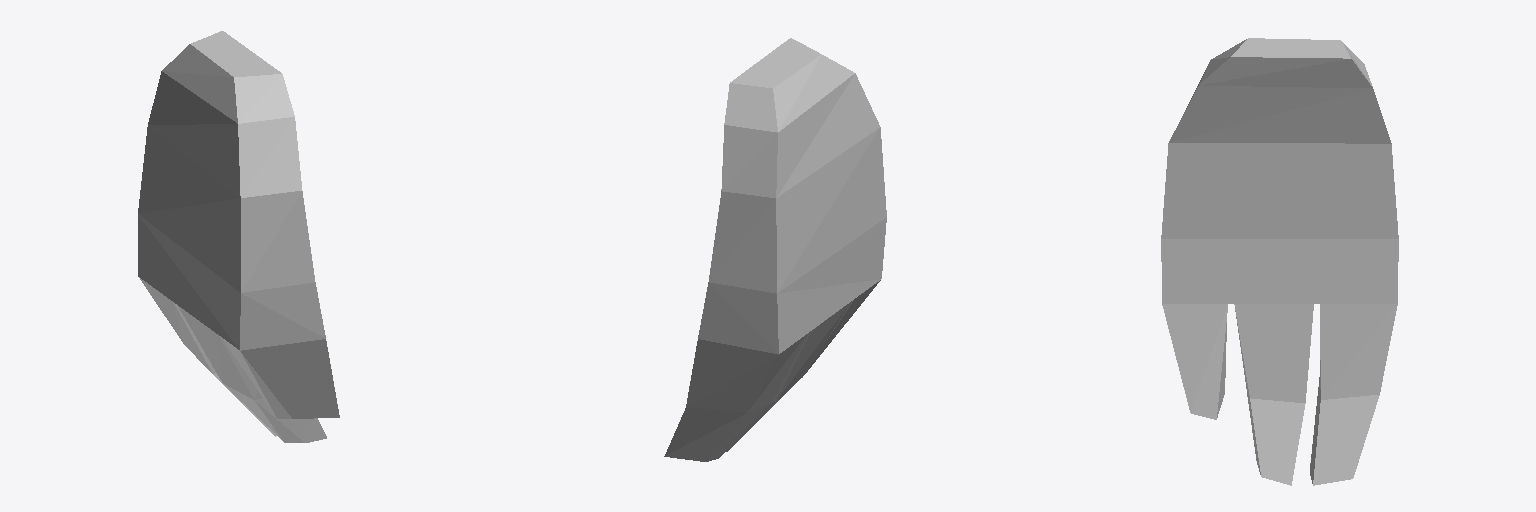
Rendered from hand.obj.
3 renders of one model, left to right at view 1: azimuth 30°, elevation 25°; view 2: azimuth 150°, elevation 25°; view 3: azimuth 270°, elevation 25°, orthographic.
Parts seen in each view (by area): view 1: Hand; view 2: Hand; view 3: Hand.
Part boxes in pixels (left/top/right/bottom): Hand: left=138, top=31, right=339, bottom=442; Hand: left=664, top=38, right=886, bottom=461; Hand: left=1161, top=38, right=1398, bottom=485.
Size of the model in its own units: 0.2159 by 0.6145 by 0.3311.